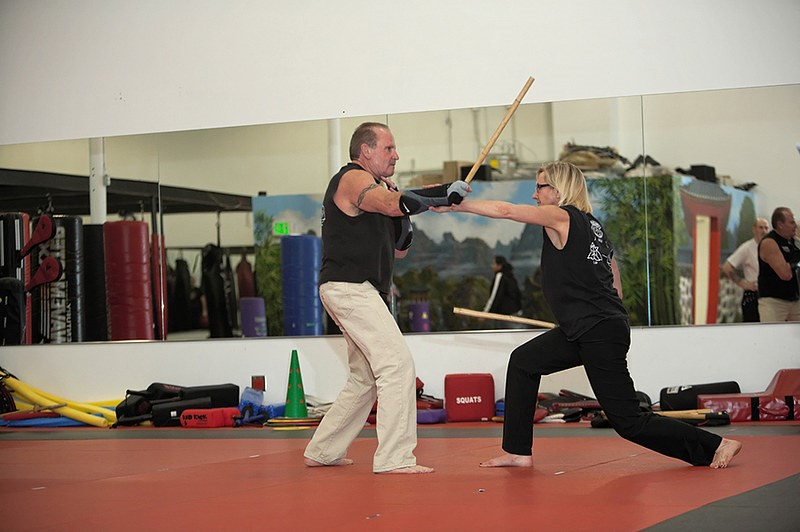baston_e: (461, 81, 535, 180), (456, 307, 551, 327), (658, 407, 708, 415), (662, 413, 702, 420)
baston_v: (450, 302, 462, 316), (527, 72, 536, 81), (699, 413, 708, 421), (706, 406, 712, 414)
